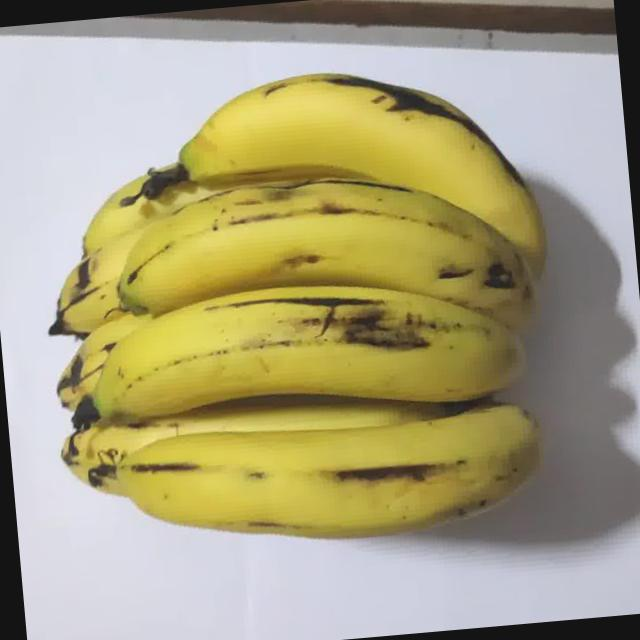banana_pacche: (0, 38, 592, 621)
